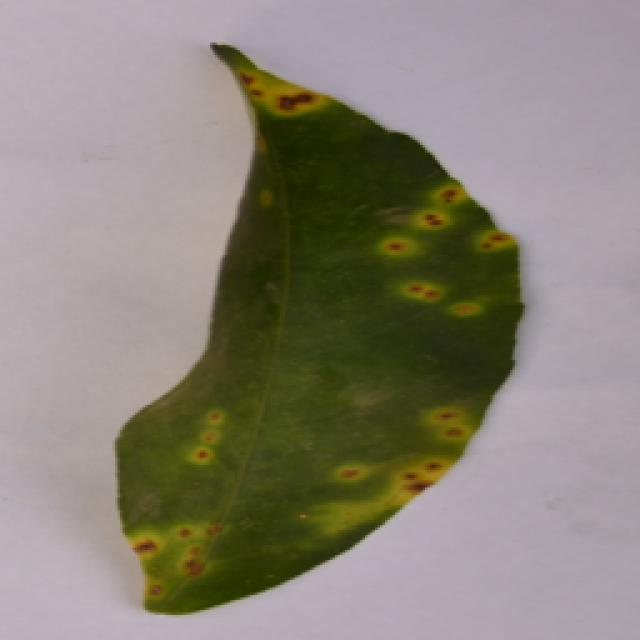canker: (120, 45, 524, 592)
